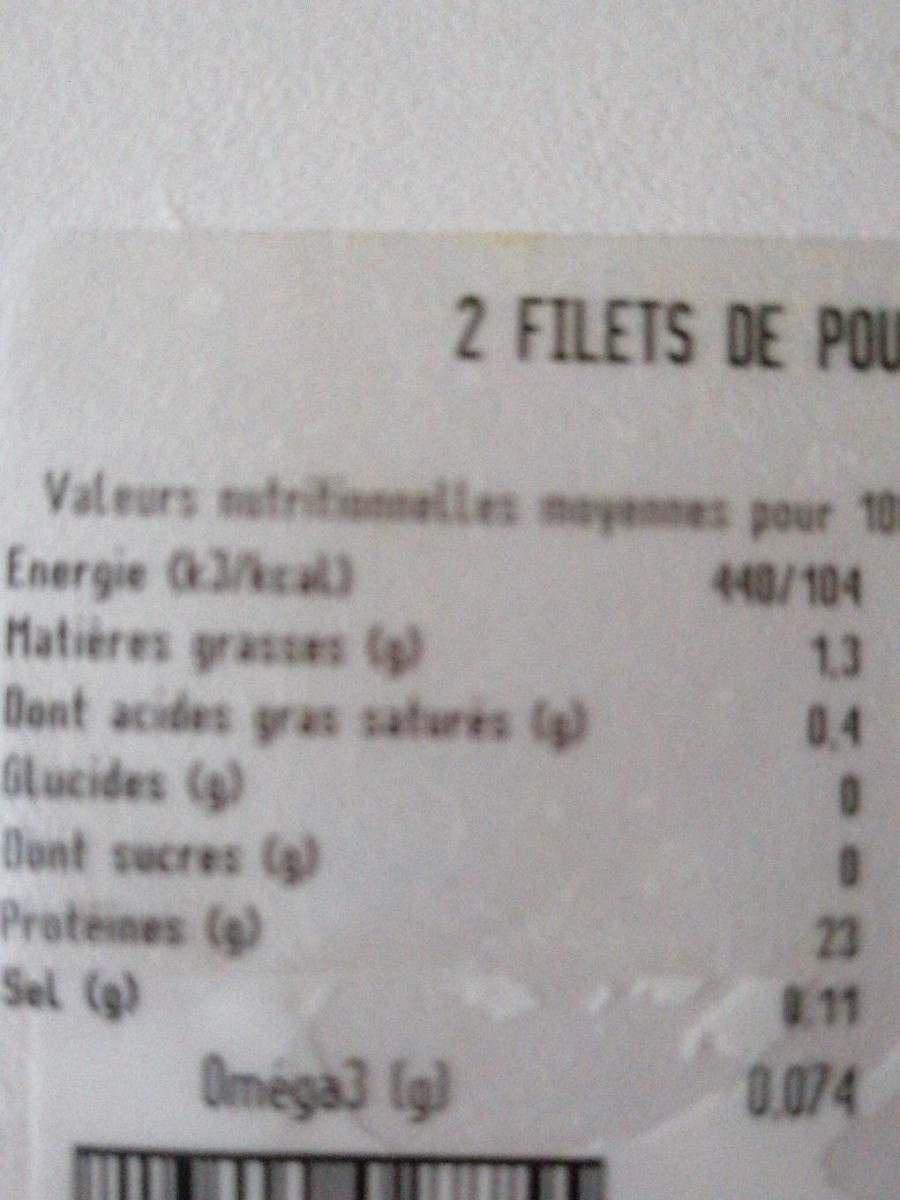column: (5, 538, 595, 1021), (708, 561, 870, 1026)
table: (2, 468, 900, 1031)
